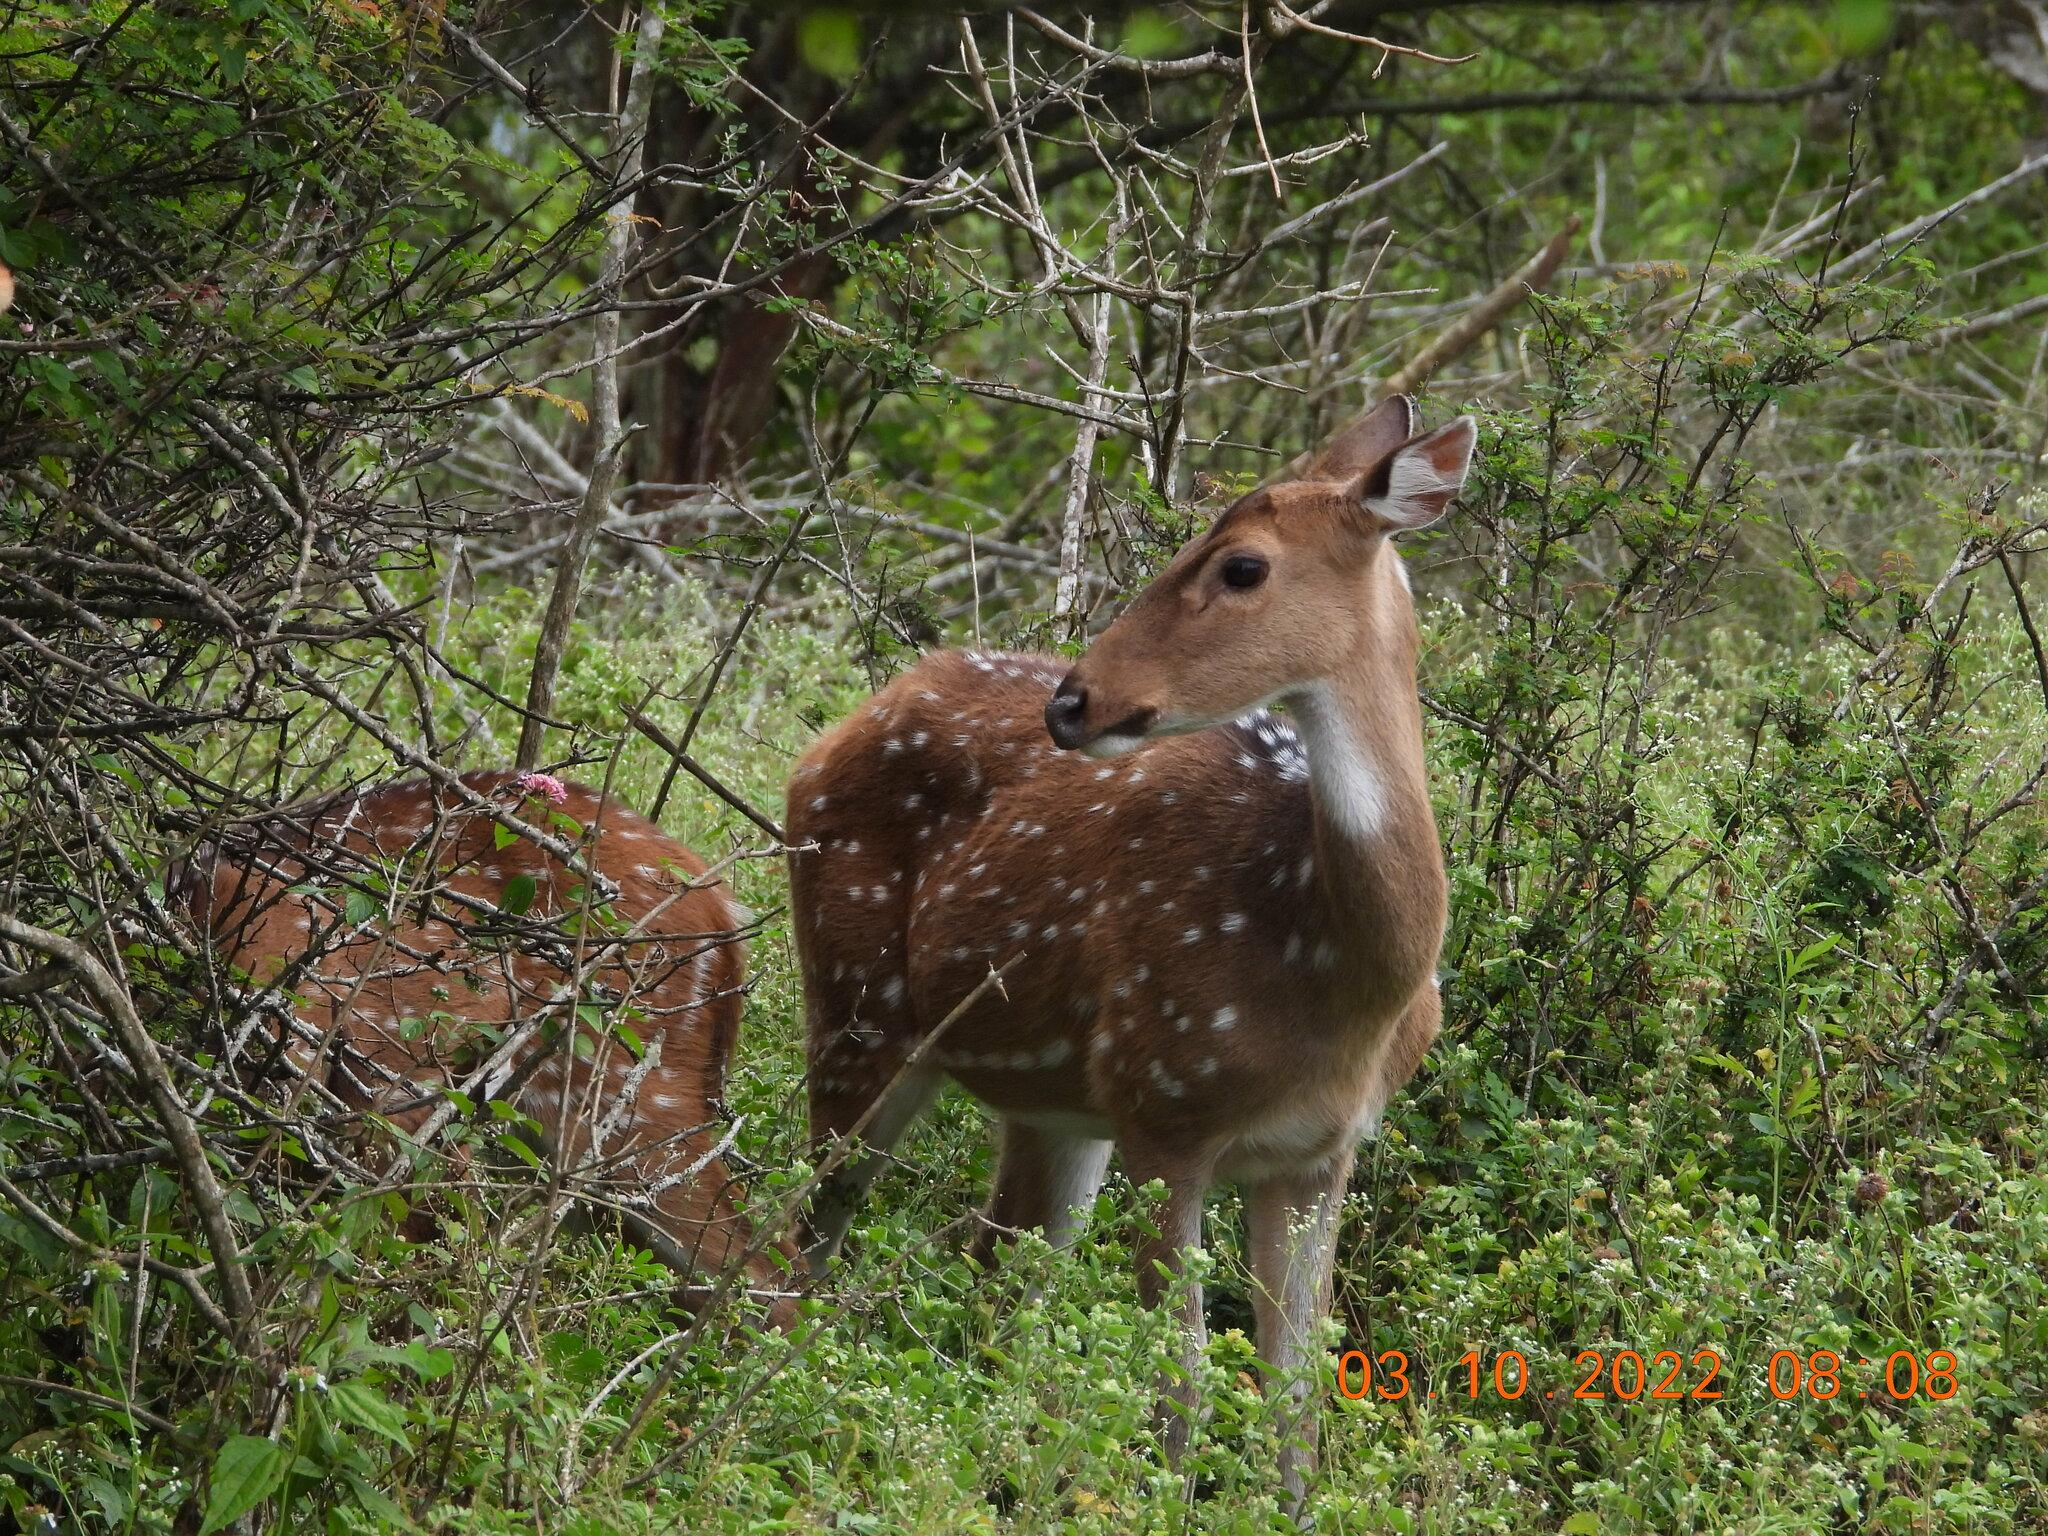Deer: (785, 395, 1476, 1368), (173, 770, 768, 1286)
